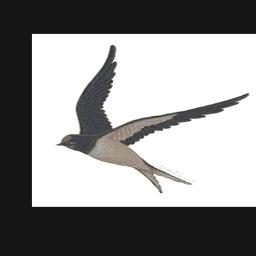Swallow: (55, 45, 250, 193)
